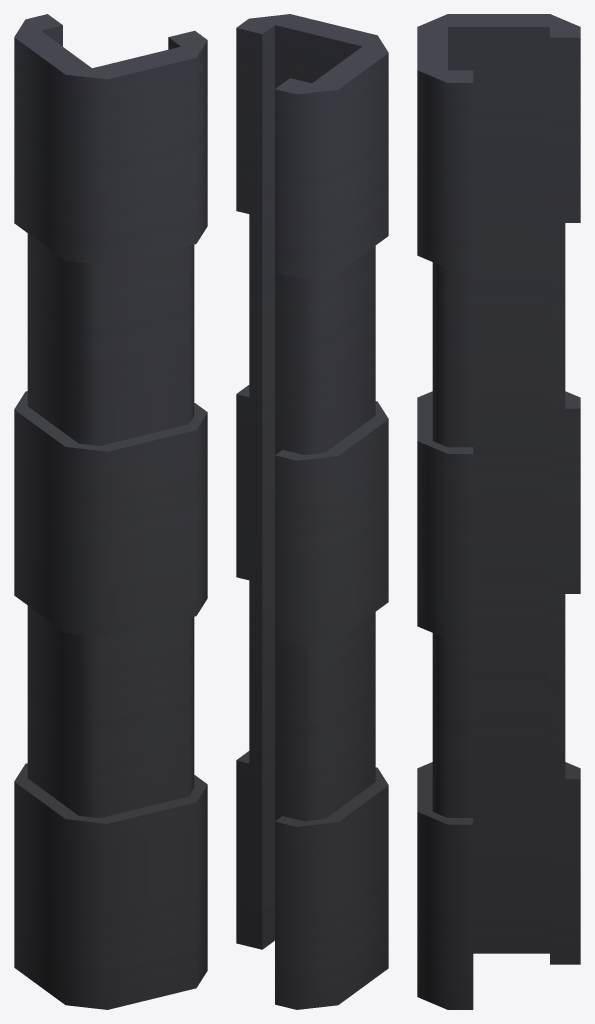
The model's file is wall-corner-detail.glb.
The picture shows the model from 3 angles, left to right: view 1: azimuth 30°, elevation 25°; view 2: azimuth 150°, elevation 25°; view 3: azimuth 270°, elevation 25°; orthographic projection.
Visible parts, largest first — view 1: wall-corner-detail; view 2: wall-corner-detail; view 3: wall-corner-detail.
Boxes of the visible parts, x1=… form: wall-corner-detail: x1=14, y1=14, x2=207, y2=1009; wall-corner-detail: x1=236, y1=14, x2=388, y2=1009; wall-corner-detail: x1=417, y1=14, x2=580, y2=1009.
Bounding box in the file's own units: 0.16 × 1 × 0.16.
1 material, 1 textured.
